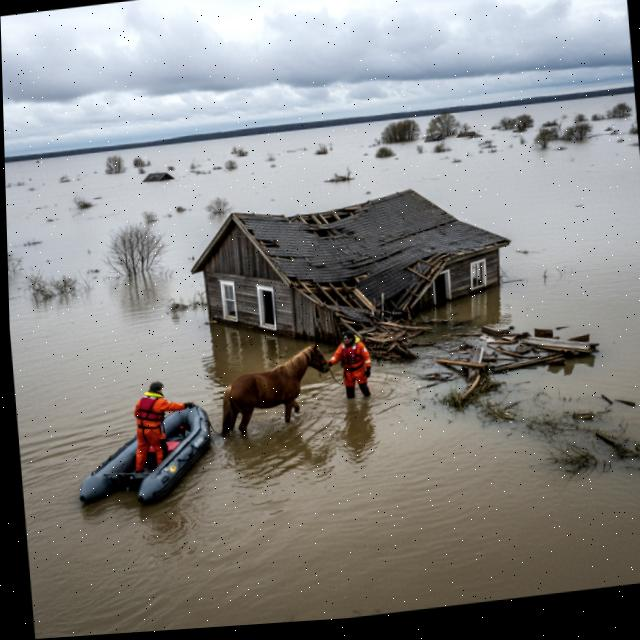horse: (208, 343, 338, 439)
rescuer: (118, 364, 204, 475), (325, 322, 384, 404)
